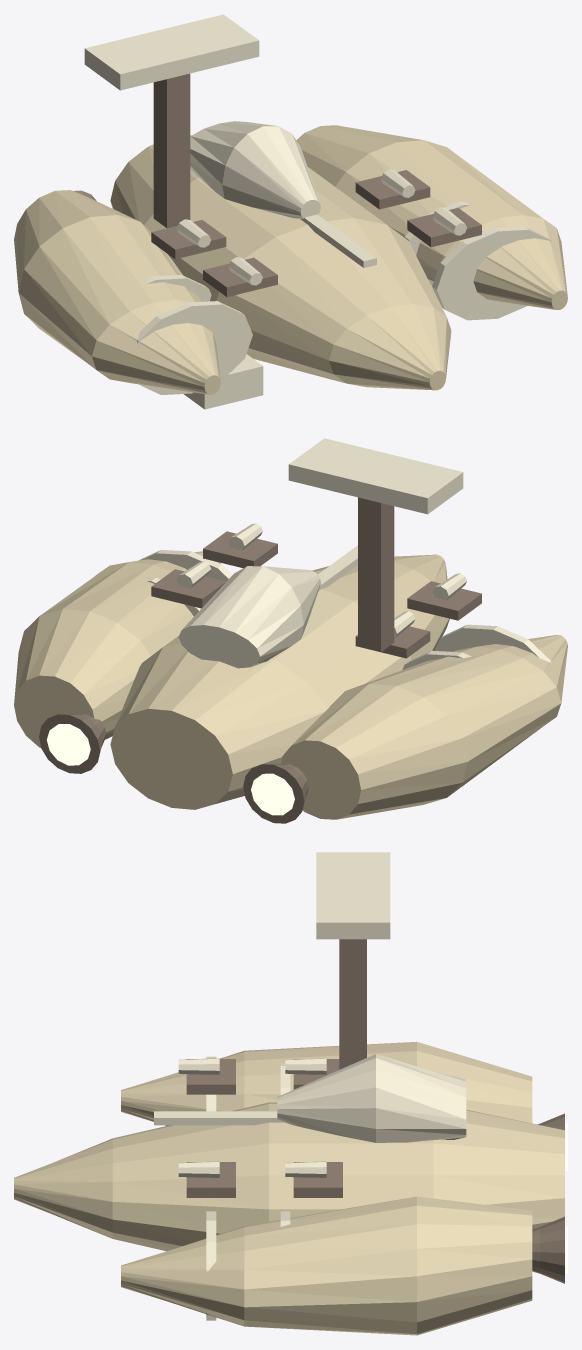
The picture shows the model from 3 angles, top to bottom: view 1: azimuth 30°, elevation 25°; view 2: azimuth 150°, elevation 25°; view 3: azimuth 270°, elevation 25°; orthographic projection. The views are drawn at different scales.
Bounding box in the file's own units: 12.16 × 7.65 × 12.
